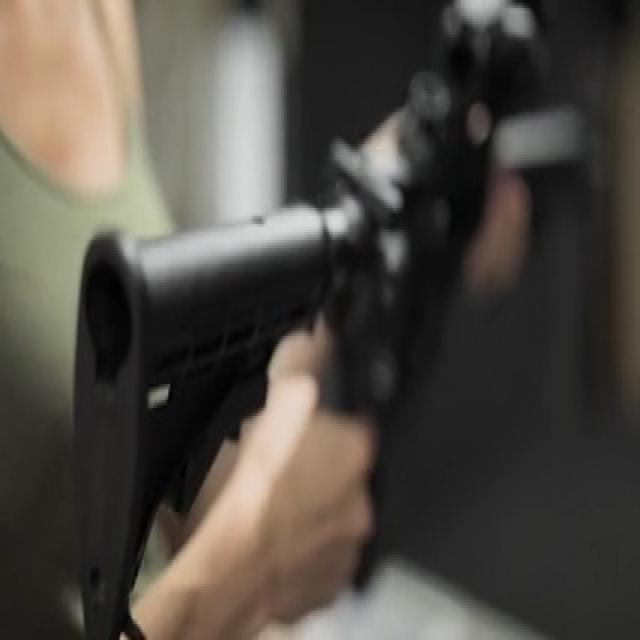Gun_Holder: (55, 0, 636, 628)
